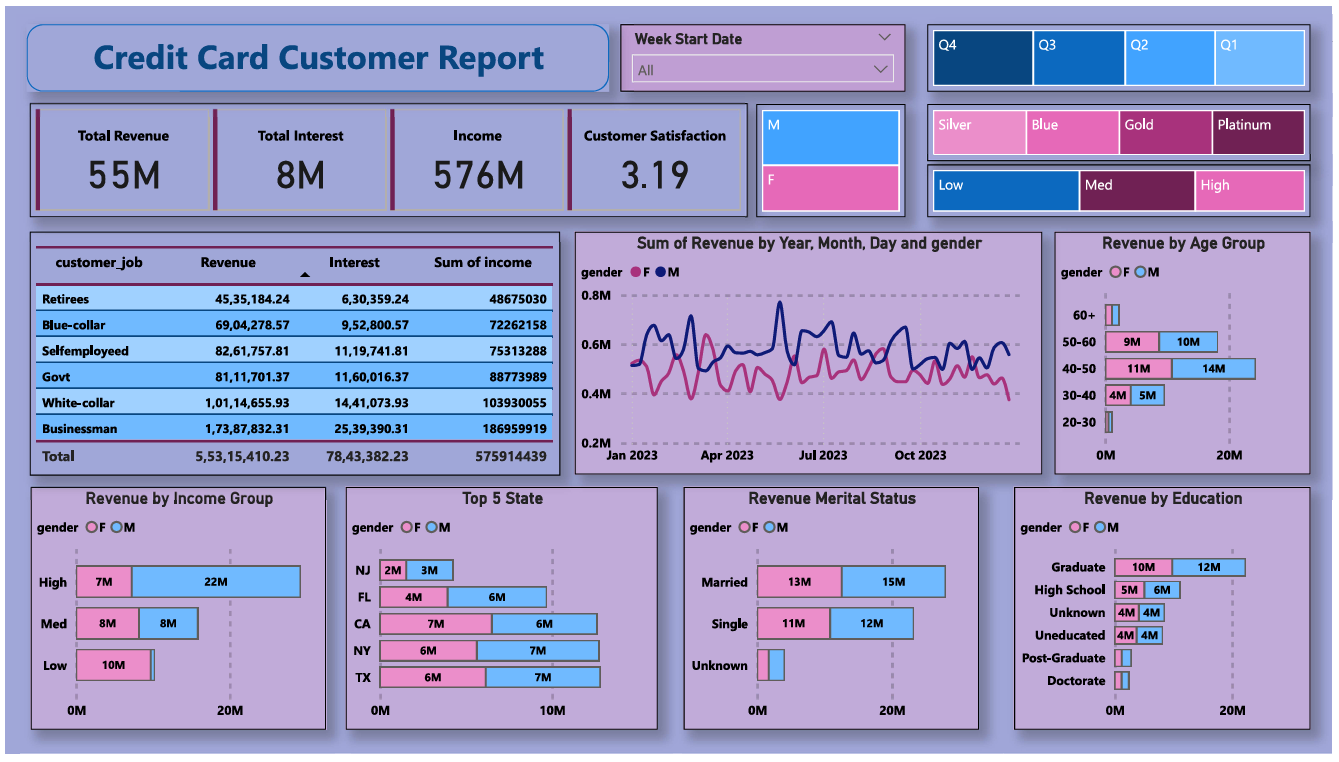

What the dashboard file says about the page in this screenshot:
{"tool":"powerbi","page":{"name":"Customers Report","canvas":[1280,720],"ordinal":1},"visuals":[{"type":"barChart","title":"Revenue by Income Group","fields":{"Category":["public customer.IncomeGroup"],"Y":["Sum(public credit_card.Revenue)"],"Series":["public customer.gender"]},"box":[23.7,463,285.5,233.7],"z":0},{"type":"tableEx","fields":{"Values":["public customer.customer_job","Sum(public credit_card.Revenue)","Sum(public credit_card.interest_earned)","Sum(public customer.income)"]},"box":[23.2,217.1,512.3,234.4],"z":1000},{"type":"cardVisual","fields":{"Data":["Sum(public credit_card.Revenue)","Sum(public credit_card.interest_earned)","Sum(public customer.income)","Avg(public customer.cust_satisfaction_score)"]},"box":[23.2,92.6,693.2,110],"z":2000},{"type":"slicer","fields":{"Values":["public credit_card.week_start_date"]},"box":[593.3,17.4,275,65.1],"z":3000},{"type":"treemap","fields":{"Group":["public credit_card.qtr"],"Values":["Avg(public credit_card.client_num)"]},"box":[888.6,17.4,370.5,65.1],"z":4000},{"type":"treemap","fields":{"Group":["public customer.gender"],"Values":["Sum(public credit_card.Revenue)"]},"box":[723.6,94.1,144.7,108.5],"z":5000},{"type":"treemap","fields":{"Group":["public credit_card.card_category"],"Values":["Avg(public credit_card.client_num)"]},"box":[888.6,94.1,370.5,55],"z":6000},{"type":"treemap","fields":{"Values":["Sum(public credit_card.client_num)"],"Group":["public customer.IncomeGroup"]},"box":[888.6,152,370.5,50.7],"z":7000},{"type":"shape","box":[20.3,17.4,561.5,65.1],"z":8000},{"type":"textbox","box":[34.7,20.3,534,57.9],"z":9000},{"type":"lineChart","fields":{"Y":["Sum(public credit_card.Revenue)"],"Series":["public customer.gender"],"Category":["public credit_card.week_start_date.Variation.Date Hierarchy.Year","public credit_card.week_start_date.Variation.Date Hierarchy.Month","public credit_card.week_start_date.Variation.Date Hierarchy.Day"]},"box":[548.8,217.5,451.2,233.7],"z":10000},{"type":"barChart","title":"Revenue by Age Group","fields":{"Category":["public customer.AgeGroup"],"Y":["Sum(public credit_card.Revenue)"],"Series":["public customer.gender"]},"box":[1011.9,217.5,247,233.7],"z":11000},{"type":"barChart","title":"Revenue Merital Status","fields":{"Y":["Sum(public credit_card.Revenue)"],"Category":["public customer.marital_status"],"Series":["public customer.gender"]},"box":[653.9,463,285.5,233.7],"z":12000},{"type":"barChart","title":"Revenue by Education","fields":{"Category":["public customer.education_level"],"Y":["Sum(public credit_card.Revenue)"],"Series":["public customer.gender"]},"box":[973.4,463,285.5,233.7],"z":13000},{"type":"barChart","title":"Top 5 State","fields":{"Category":["public customer.state_cd"],"Y":["Sum(public credit_card.Revenue)"],"Series":["public customer.gender"]},"box":[328.4,463,300.3,233.7],"z":14000}]}

Visuals, with their boxes in screenshot pixels (x1, y1, x2, y2), scaled from the page's 1280x720 canvas onto the 1339x762 screenshot:
"Revenue by Income Group" barChart: x1=25, y1=490, x2=323, y2=737
tableEx - public customer.customer_job x Sum(public credit_card.Revenue): x1=24, y1=230, x2=560, y2=478
cardVisual - Sum(public credit_card.Revenue) x Sum(public credit_card.interest_earned): x1=24, y1=98, x2=749, y2=214
slicer - public credit_card.week_start_date: x1=621, y1=18, x2=908, y2=87
treemap - public credit_card.qtr x Avg(public credit_card.client_num): x1=930, y1=18, x2=1317, y2=87
treemap - public customer.gender x Sum(public credit_card.Revenue): x1=757, y1=100, x2=908, y2=214
treemap - public credit_card.card_category x Avg(public credit_card.client_num): x1=930, y1=100, x2=1317, y2=158
treemap - Sum(public credit_card.client_num) x public customer.IncomeGroup: x1=930, y1=161, x2=1317, y2=215
shape: x1=21, y1=18, x2=609, y2=87
textbox: x1=36, y1=21, x2=595, y2=83
lineChart - Sum(public credit_card.Revenue) x public customer.gender: x1=574, y1=230, x2=1046, y2=478
"Revenue by Age Group" barChart: x1=1059, y1=230, x2=1317, y2=478
"Revenue Merital Status" barChart: x1=684, y1=490, x2=983, y2=737
"Revenue by Education" barChart: x1=1018, y1=490, x2=1317, y2=737
"Top 5 State" barChart: x1=344, y1=490, x2=658, y2=737
